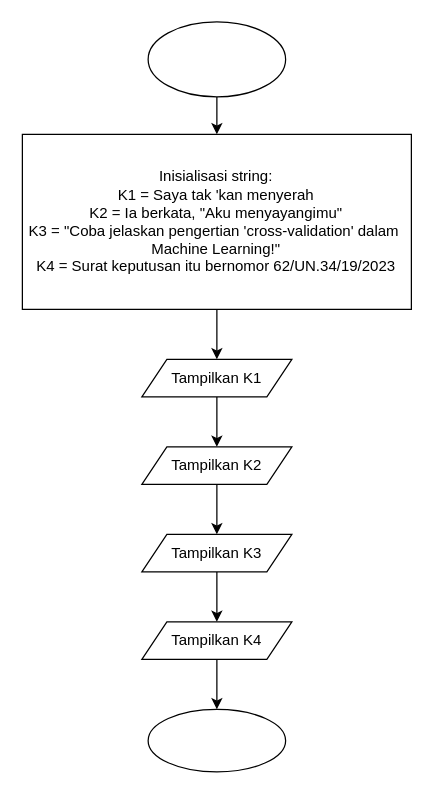
The diagram is 434 pixels wide and 794 high, and some of its shapes have lost their labels. The centre of each missing label's shape, as x and y in pixels:
Mulai: point 216,59
Selesai: point 216,740
